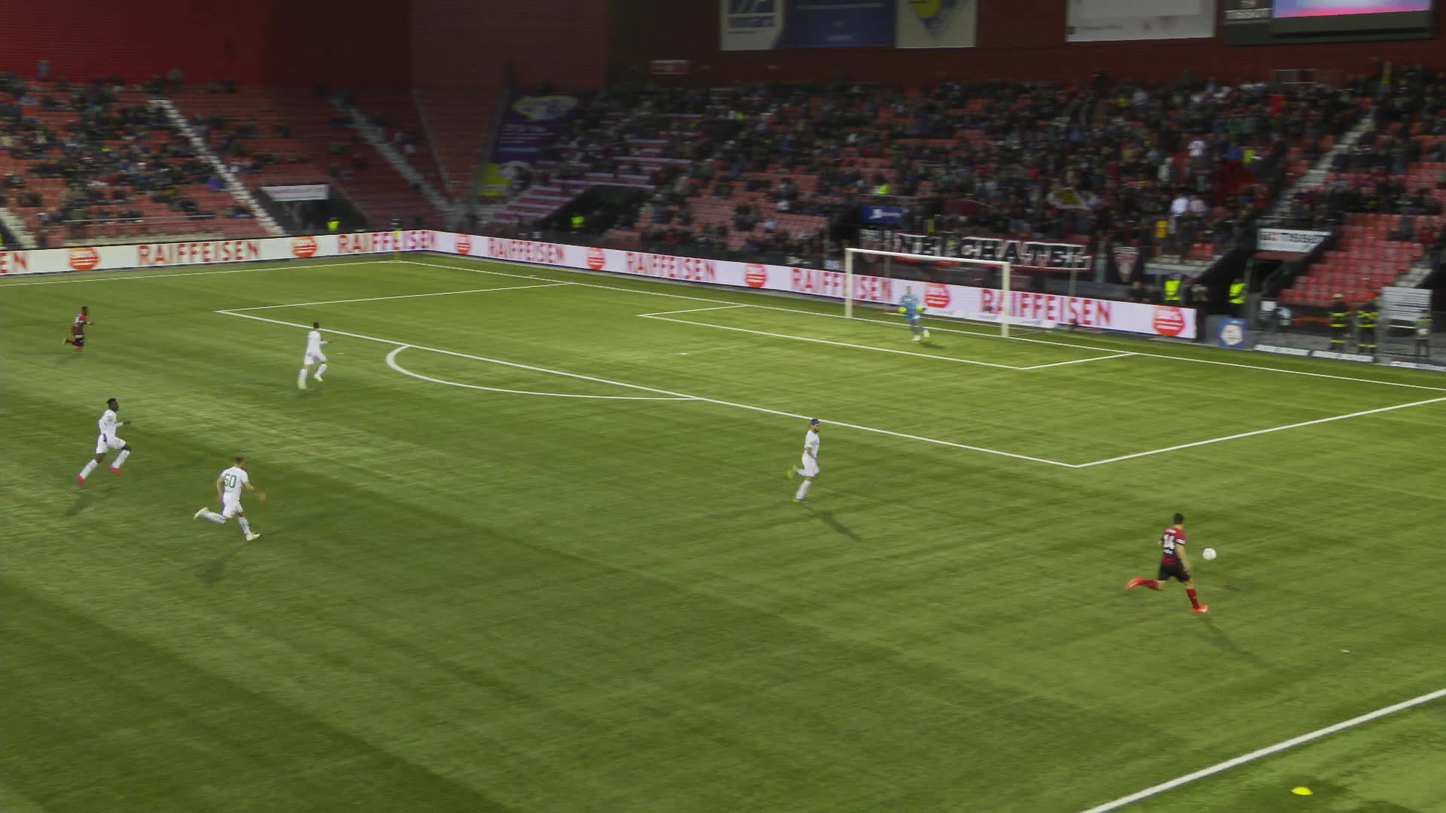ball: (1201, 547, 1215, 559)
player: (1123, 513, 1206, 613), (194, 456, 264, 540), (82, 397, 131, 486), (777, 416, 824, 504), (293, 321, 337, 384), (60, 304, 99, 353), (901, 285, 932, 340)
